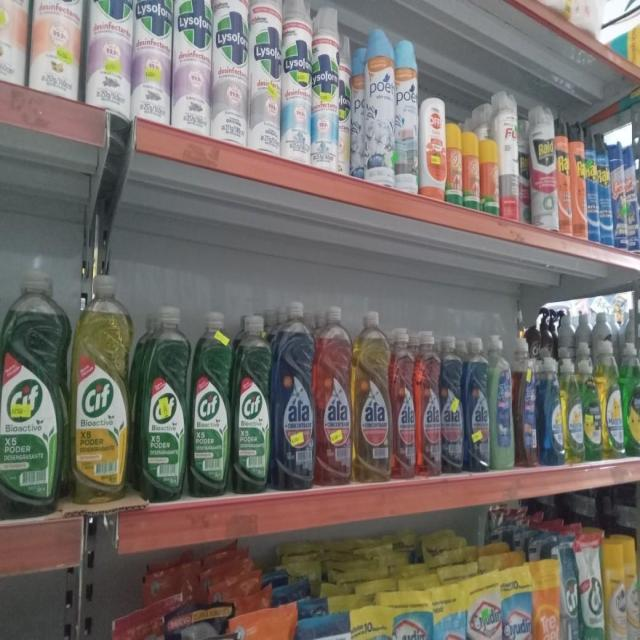ala_conc_amarillo: (354, 308, 391, 485)
ala_conc_azul: (273, 299, 315, 490), (465, 335, 489, 474), (441, 335, 464, 475)
ala_conc_rojo: (316, 303, 352, 488), (392, 326, 416, 482), (416, 331, 441, 478)
cif_conc_bot_amarilla: (71, 273, 132, 502)
cif_conc_botella_verde: (0, 256, 66, 517), (138, 304, 188, 502), (191, 309, 231, 498), (233, 312, 271, 495)
magistral_con_amarillo: (601, 338, 623, 460), (563, 348, 583, 466)
magistral_con_azul: (541, 354, 562, 468)
zorro: (490, 333, 514, 472), (516, 336, 538, 469)
